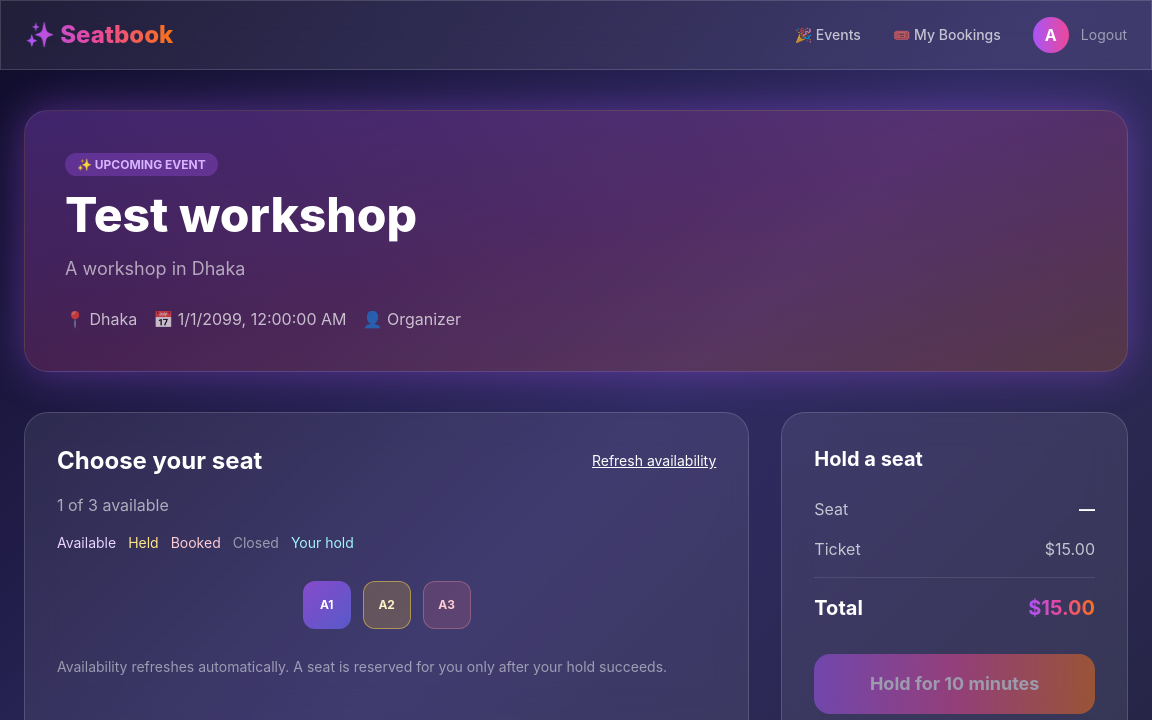
Test case: creates one hold under duplicate clicks and waits for the server response
The image size is (1152, 720).
What coordinates should you click on to do the following:
click the button named "Seat A1, available"
I would click on:
 (327, 605)
Its box is [303,581,351,629].
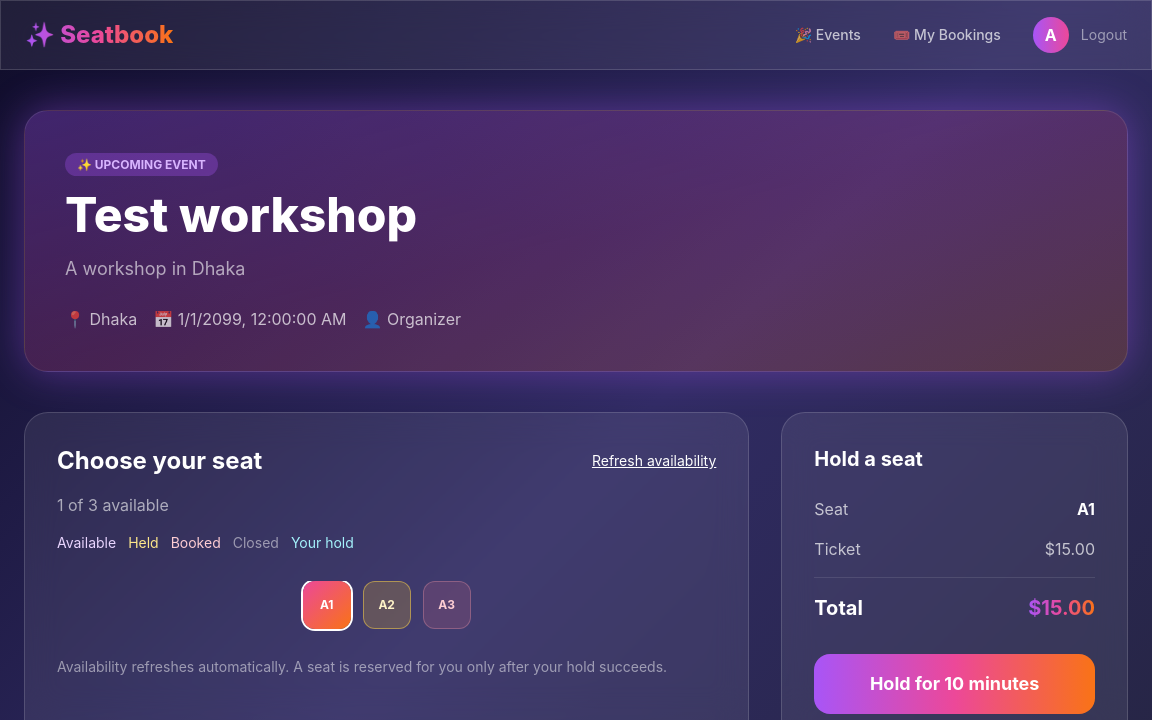
Expected: the button "Hold for 10 minutes" is enabled
What coordinates should you click on to do the following:
click the button "Hold for 10 minutes"
I would click on:
 (955, 684)
Its box is [814,654,1095,714].
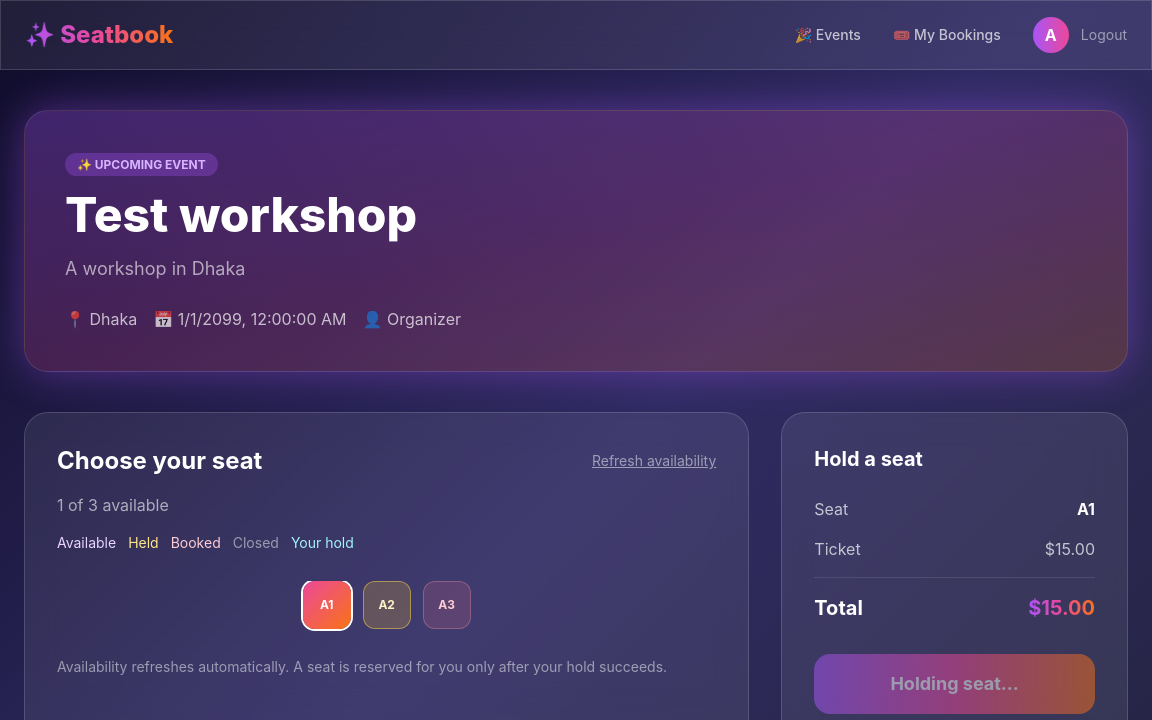
What coordinates should you click on to do the following:
click the button named "Hold for 10 minutes"
I would click on:
 (955, 684)
Its box is [814,654,1095,714].
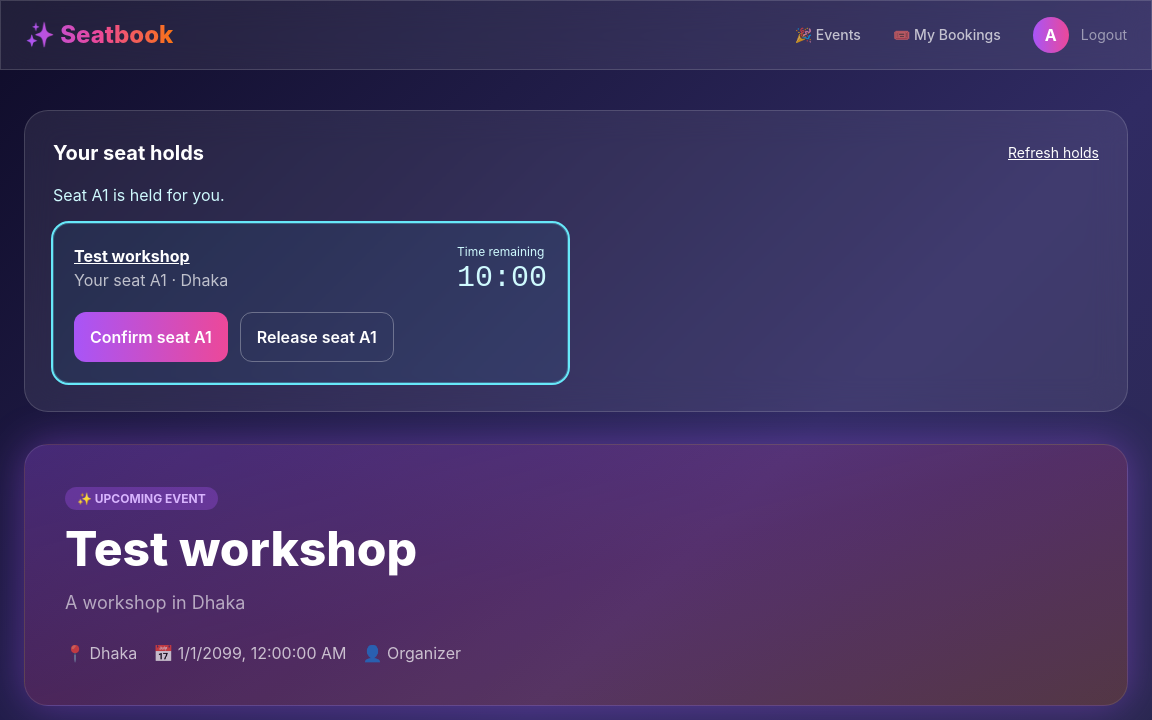
Expected: the text "10:00" is shown, [457,261,547,295]
Expected: the text "Seat A1 is held for you." is shown, [53,185,225,205]
